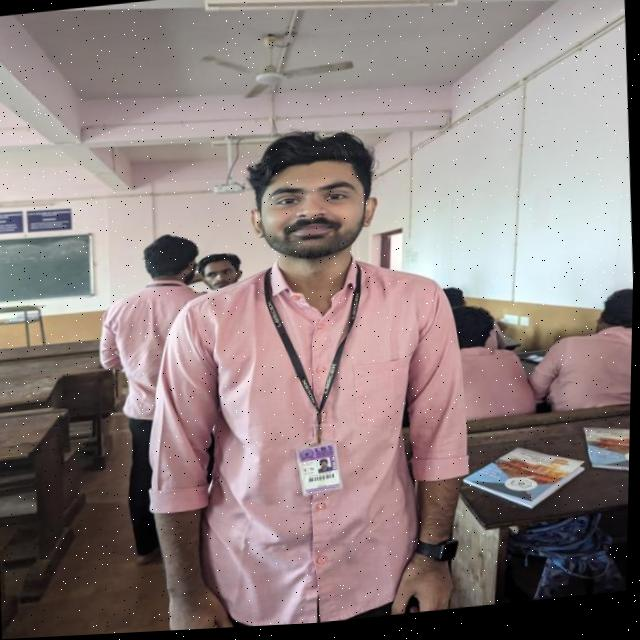id_card: (245, 243, 384, 511)
